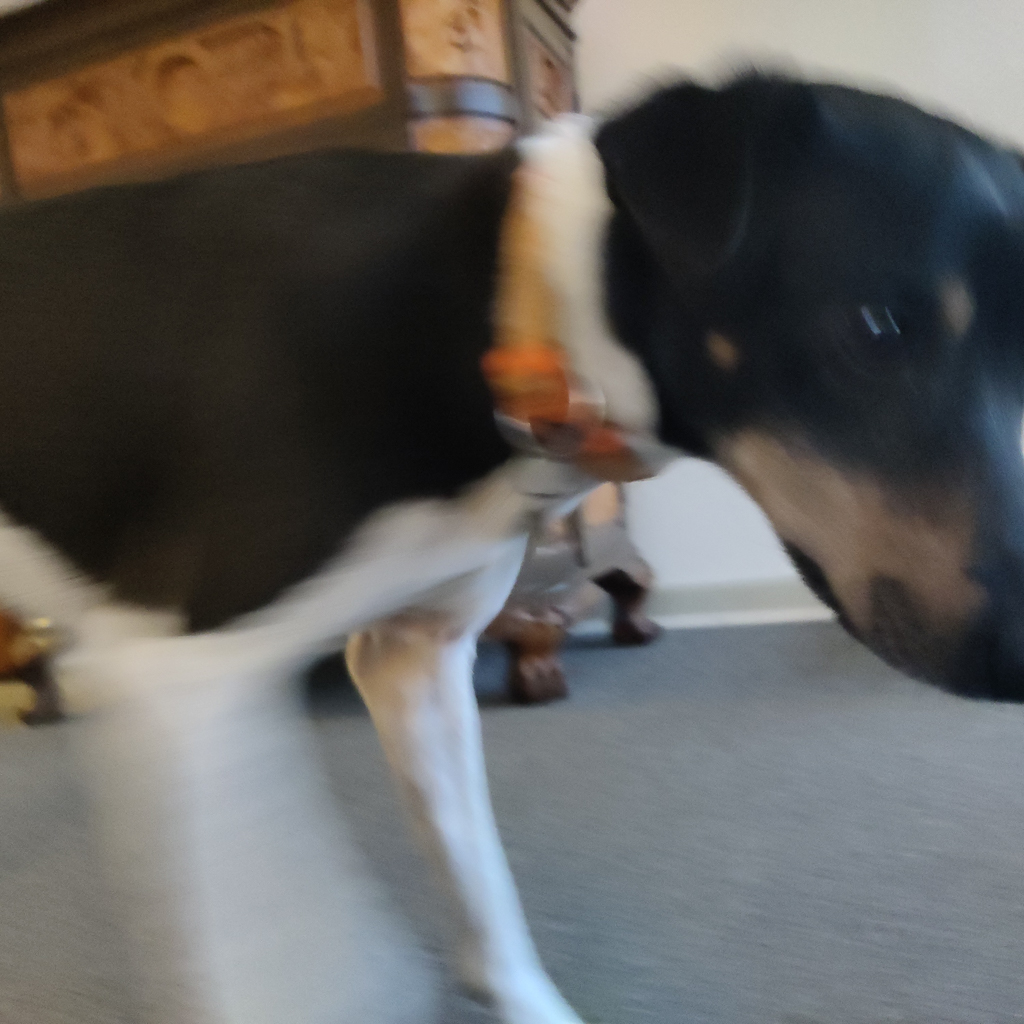Dog: (0, 32, 1024, 1024)
